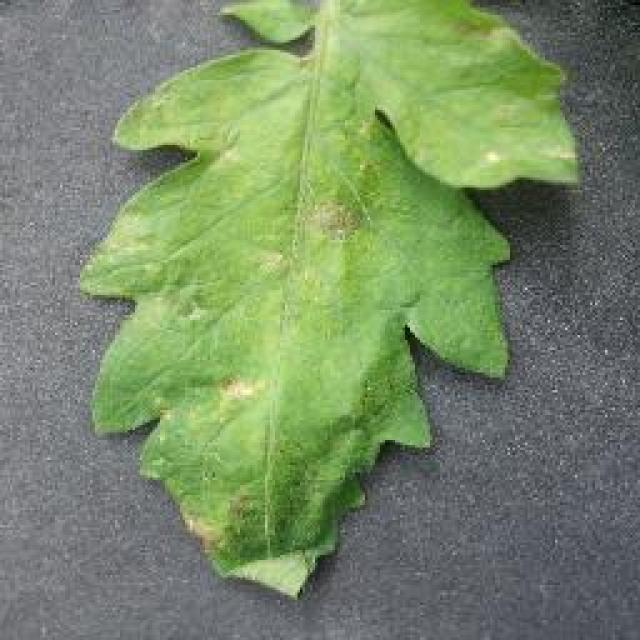Tomato Late Blight: (173, 148, 420, 600)
